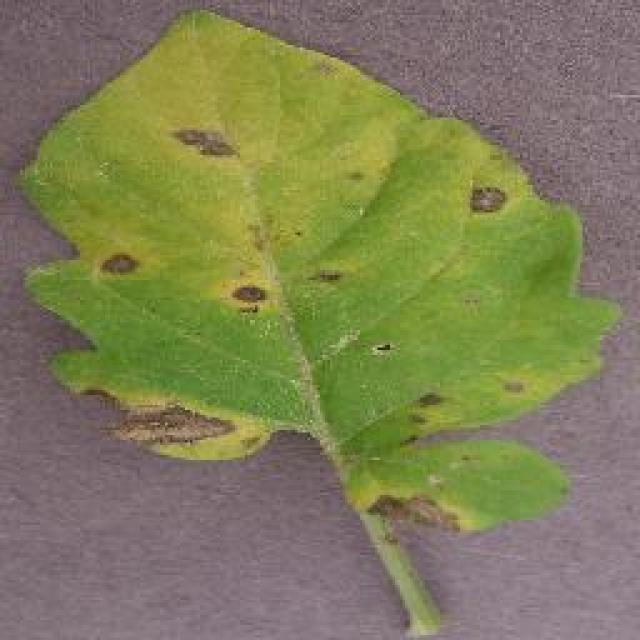Tomato target spot leaf: (19, 9, 616, 531)
